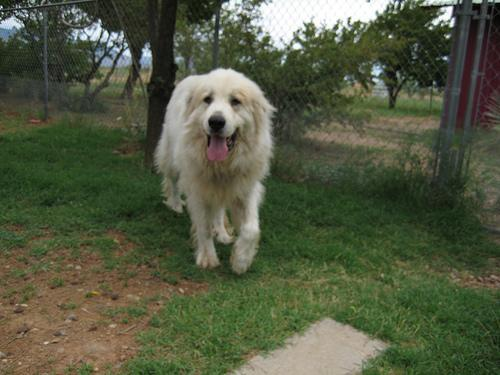Great_Pyrenees: (153, 67, 277, 276)
